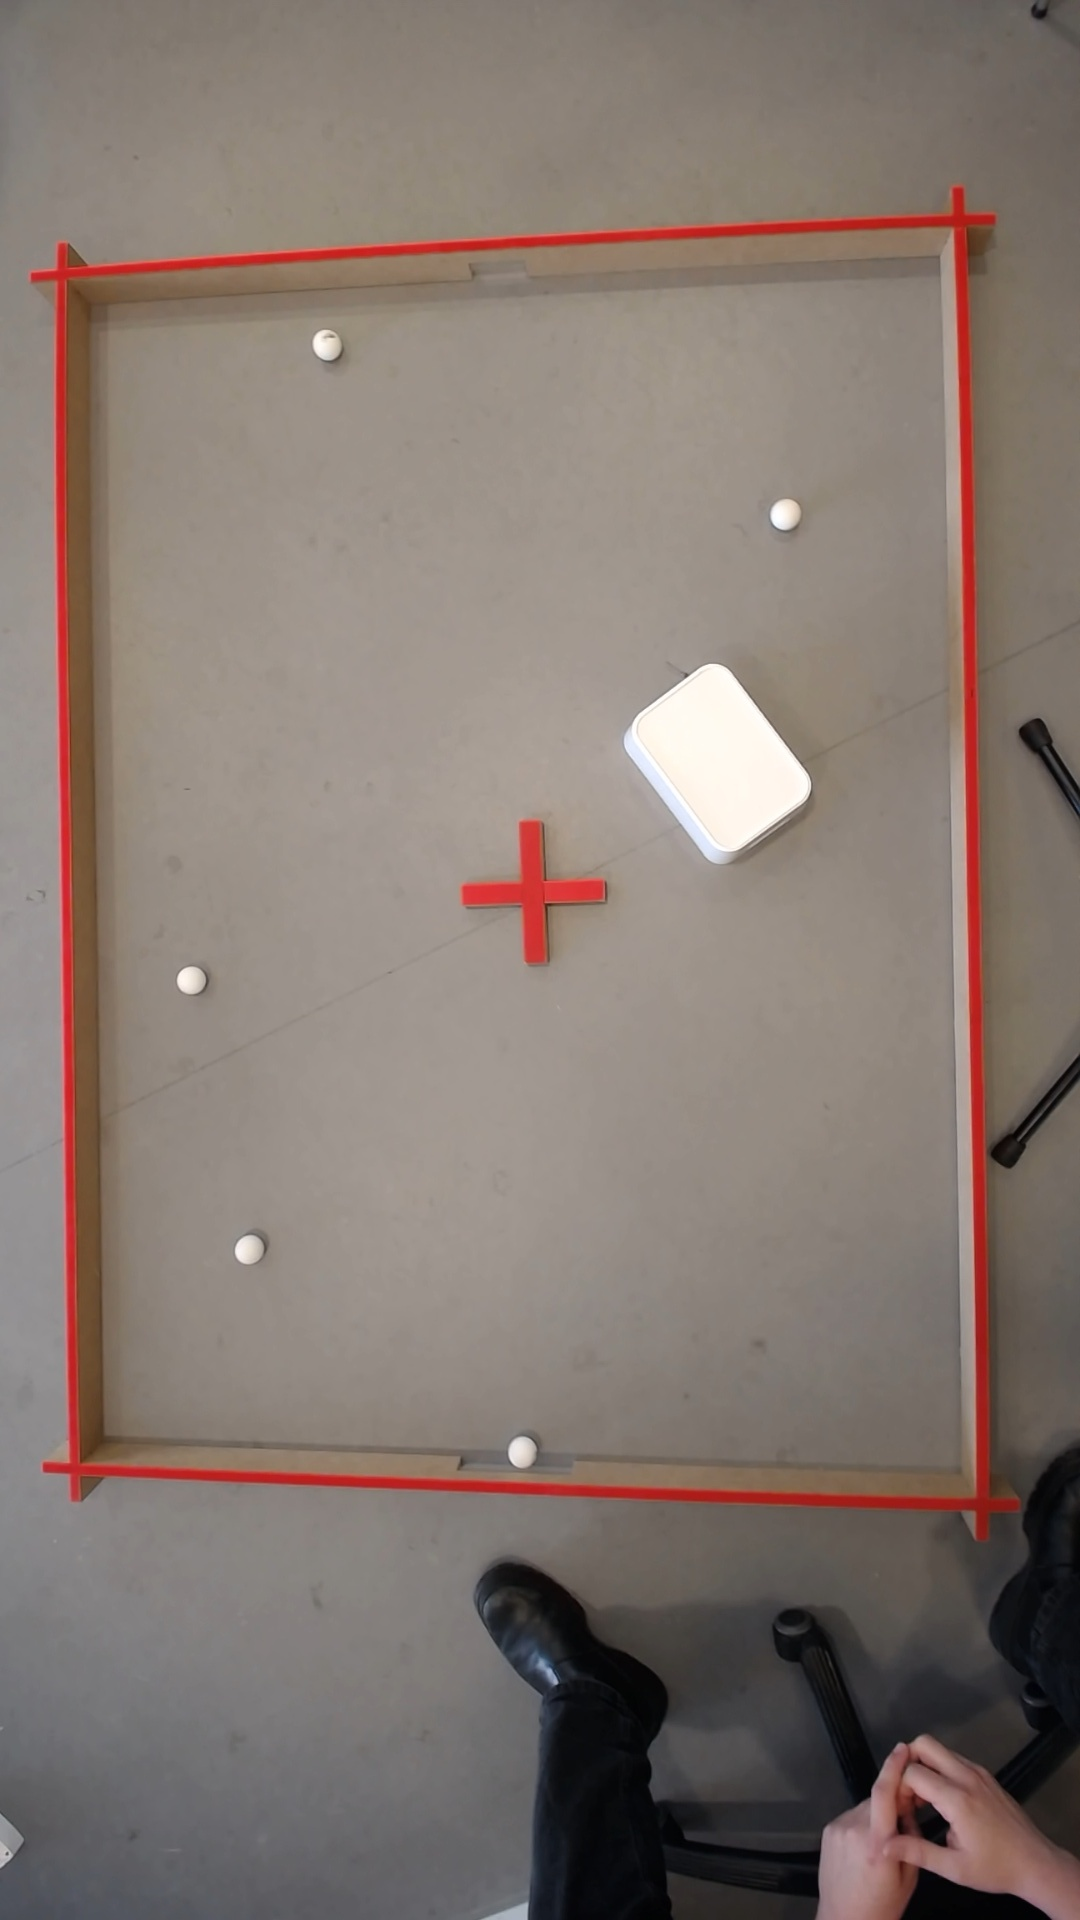balls: (611, 653, 819, 869), (913, 1778, 957, 1820), (764, 493, 800, 531), (305, 324, 342, 361), (502, 1432, 538, 1469), (229, 1232, 260, 1265), (177, 967, 198, 993)
car: (841, 1841, 865, 1866)
